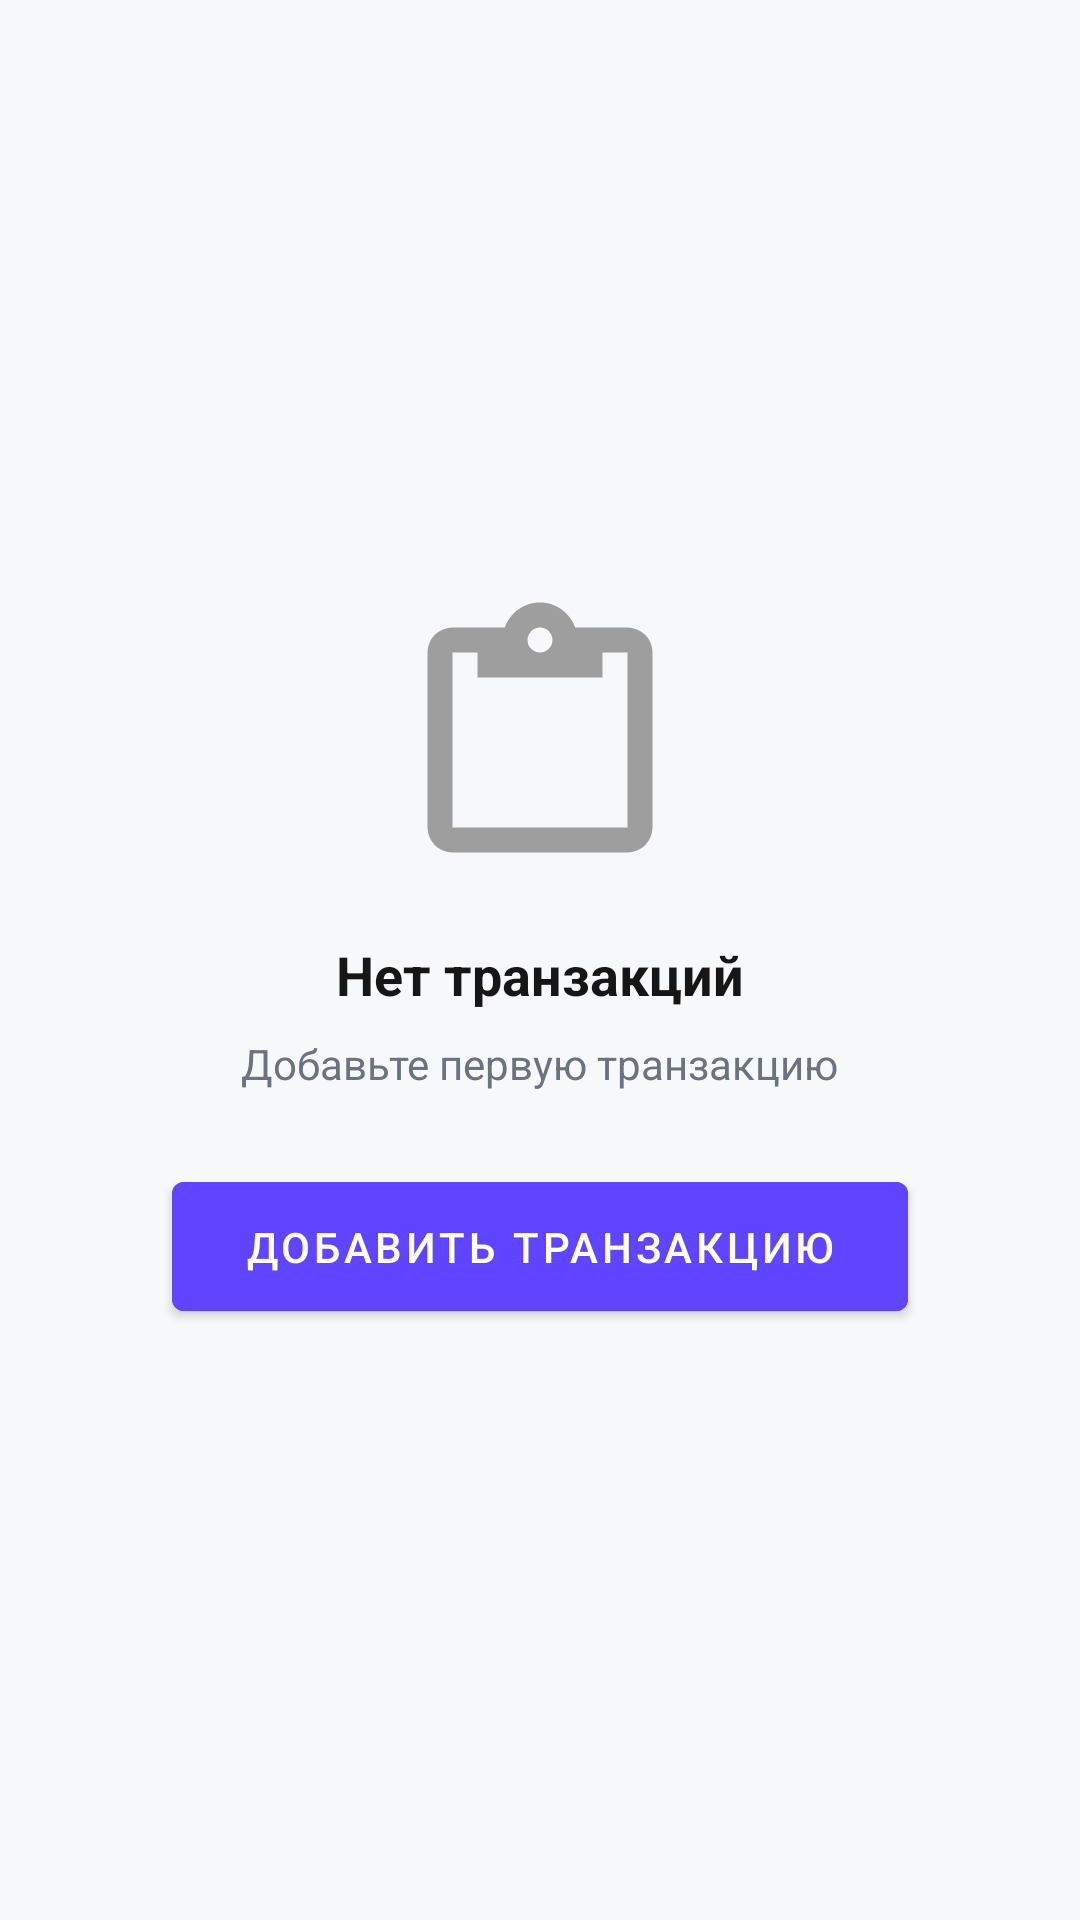

Screen size 1080 x 1920. Icon name, then its box in pixels as bbox(x1, y1, x2, y2):
empty transactions: bbox(427, 602, 653, 853)
